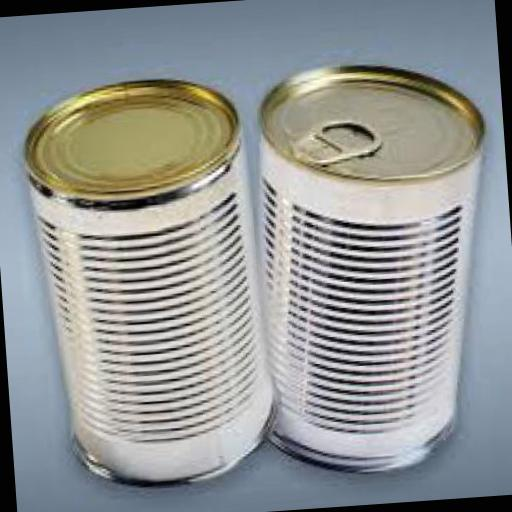metal: (241, 52, 512, 479), (20, 68, 289, 494)
